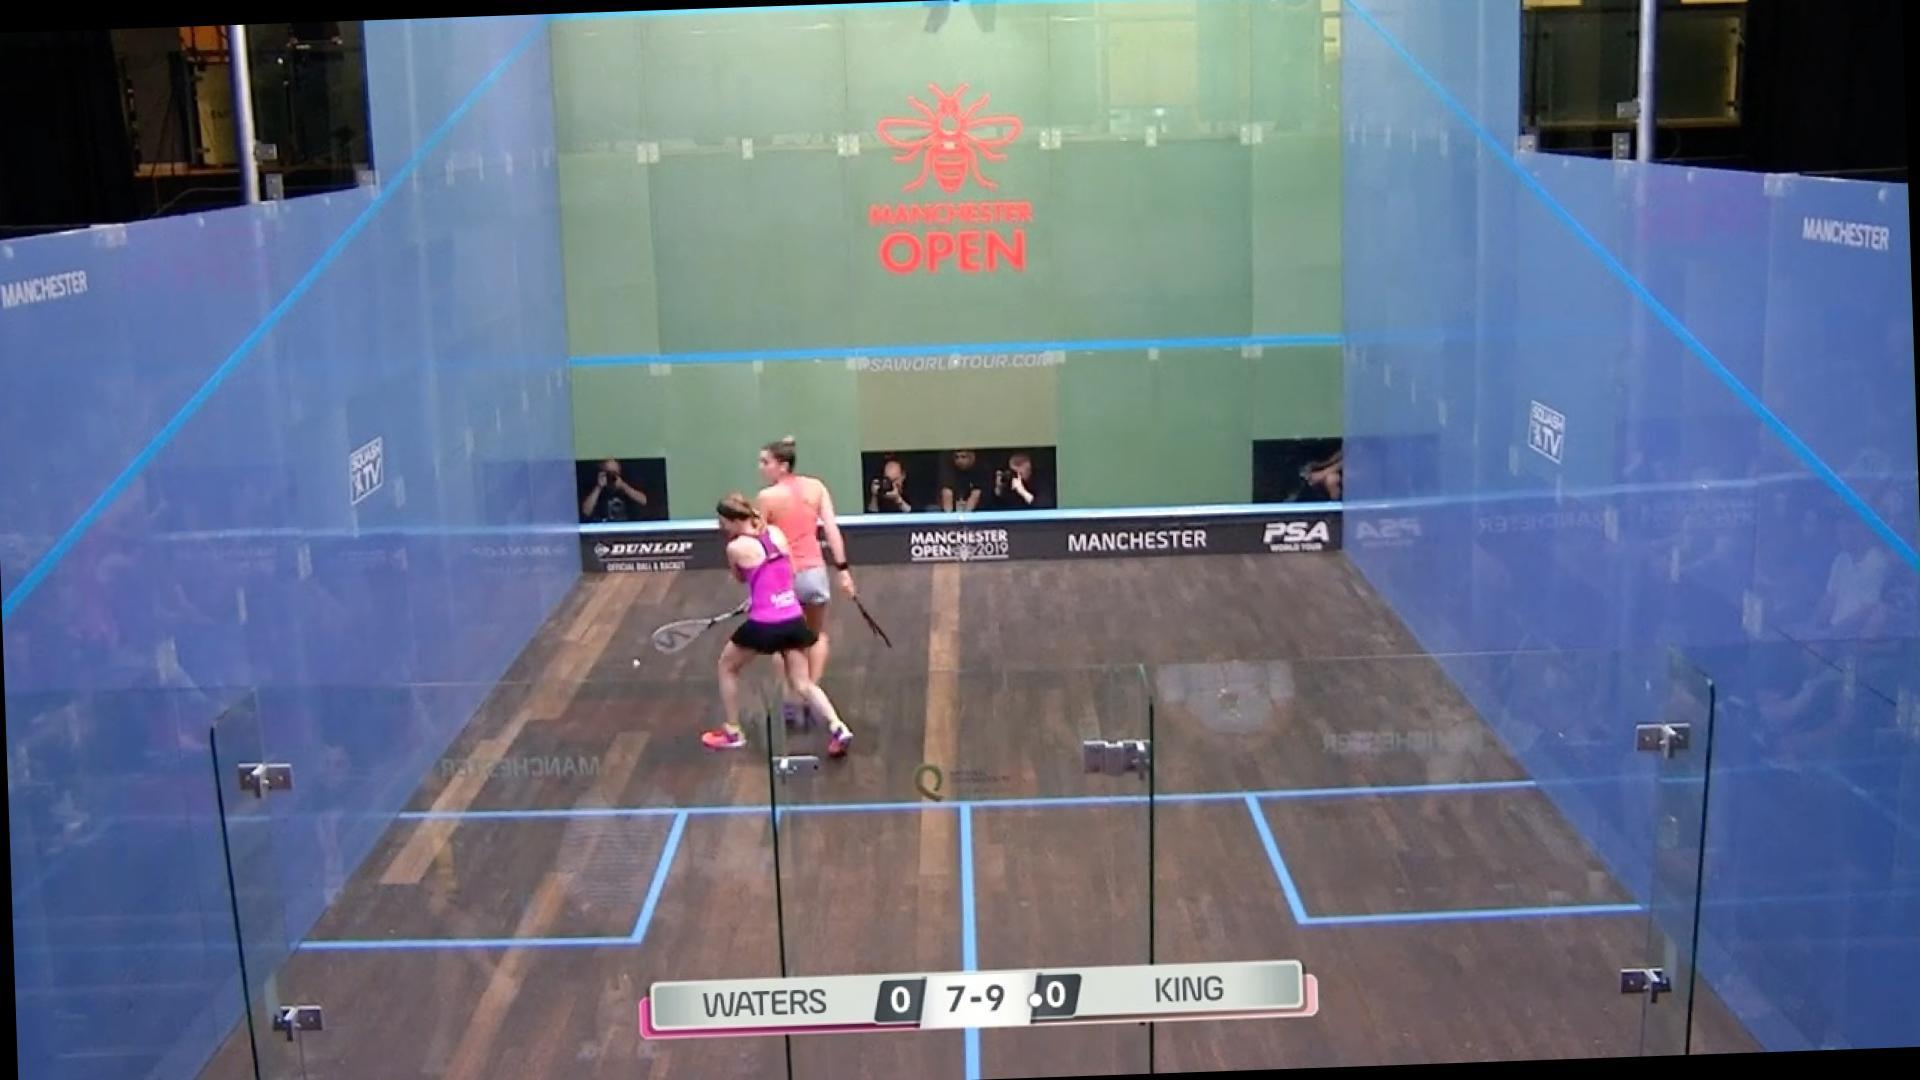Squash-Ball: (613, 641, 662, 690)
